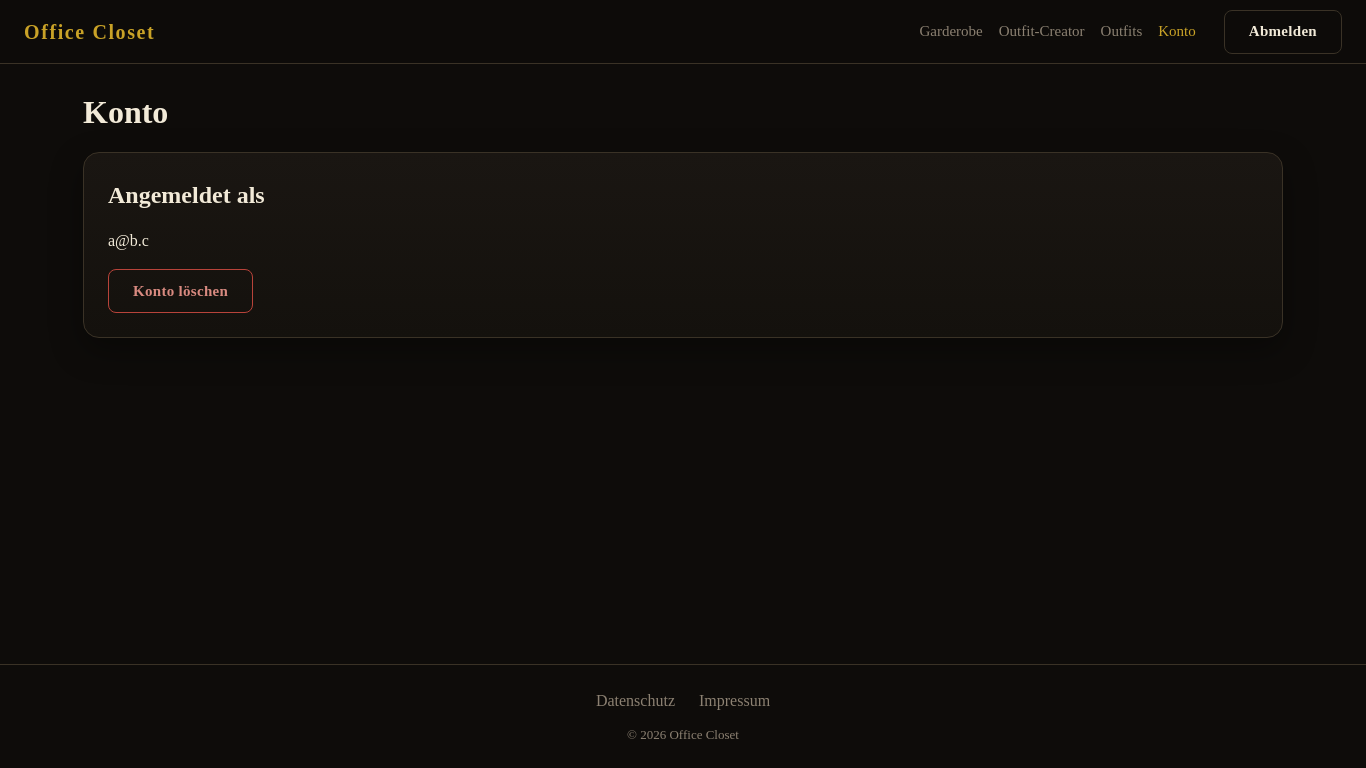
Account-Seite › bricht die Löschung beim Abbrechen ab
Click the button "Konto löschen" at (181, 291), box [108,269,253,313]
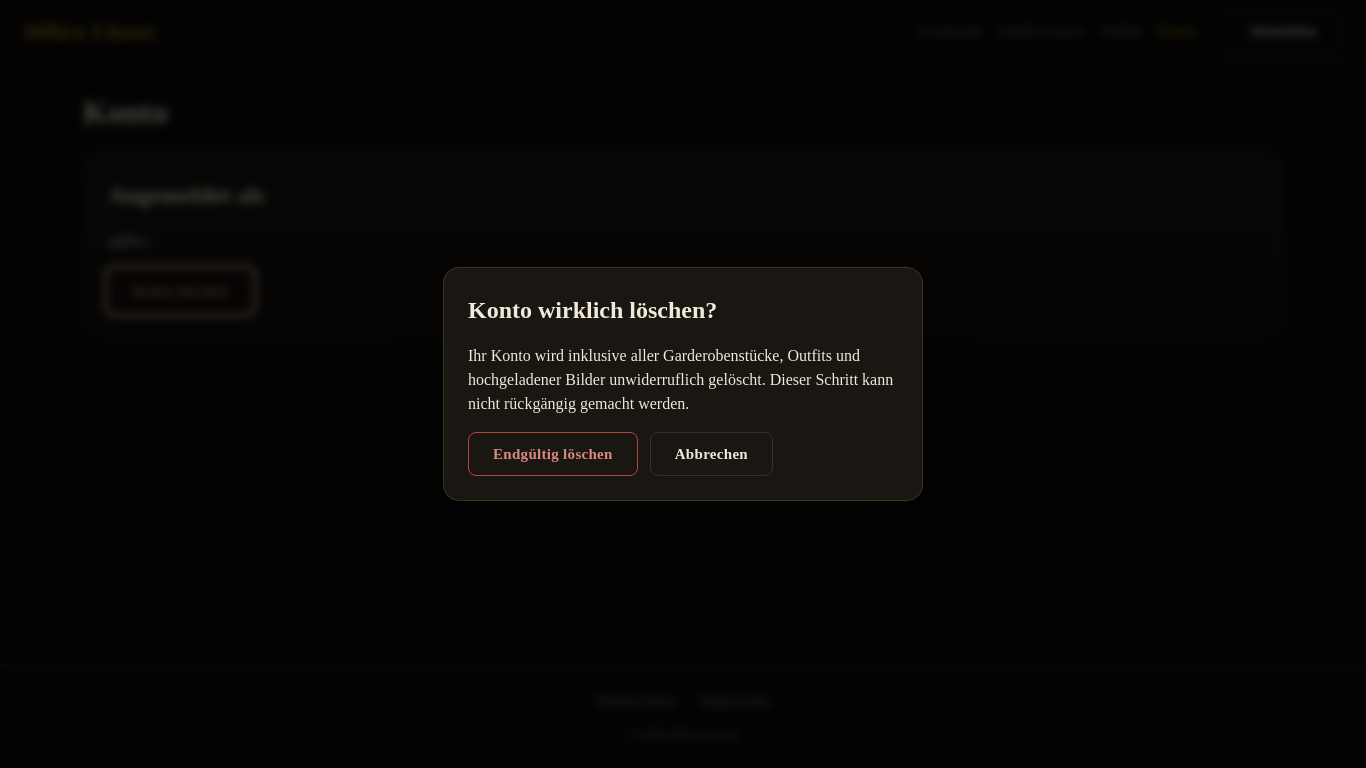
Click the button "Abbrechen" at (711, 454), box [650,432,773,476]
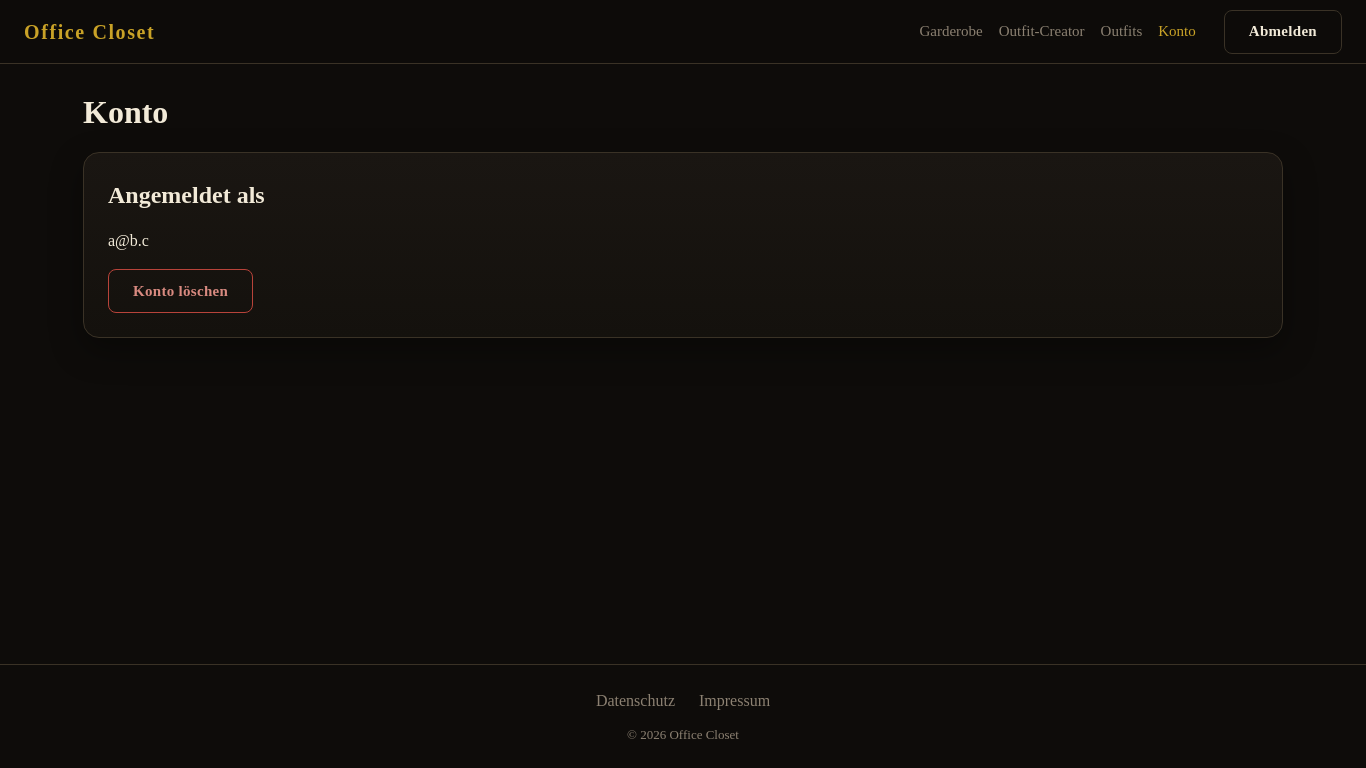
Expected: the heading "Konto wirklich löschen?" is gone
